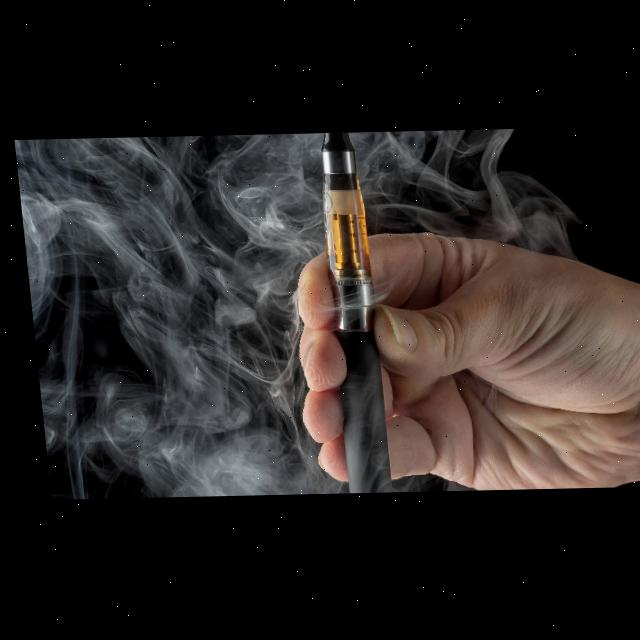vape: (309, 135, 383, 494)
